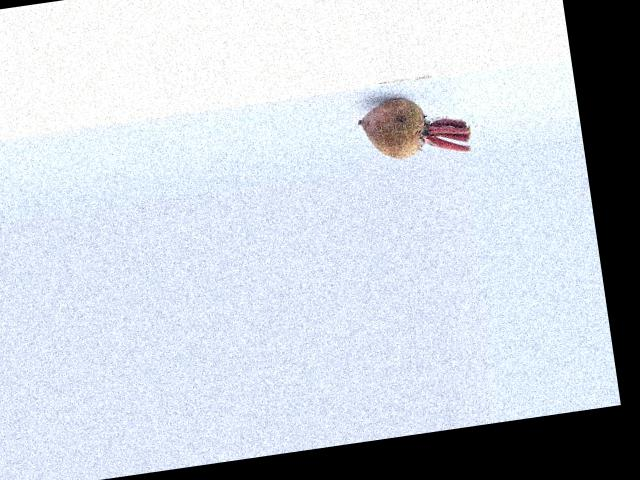beet: (357, 89, 471, 164)
